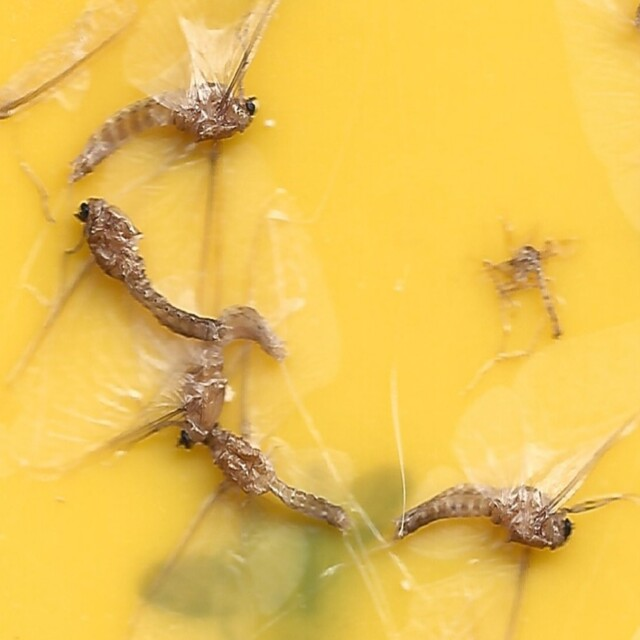Ephemeroptera: (65, 195, 232, 350), (68, 84, 255, 186), (173, 301, 284, 460), (206, 425, 356, 530), (381, 481, 575, 556)
